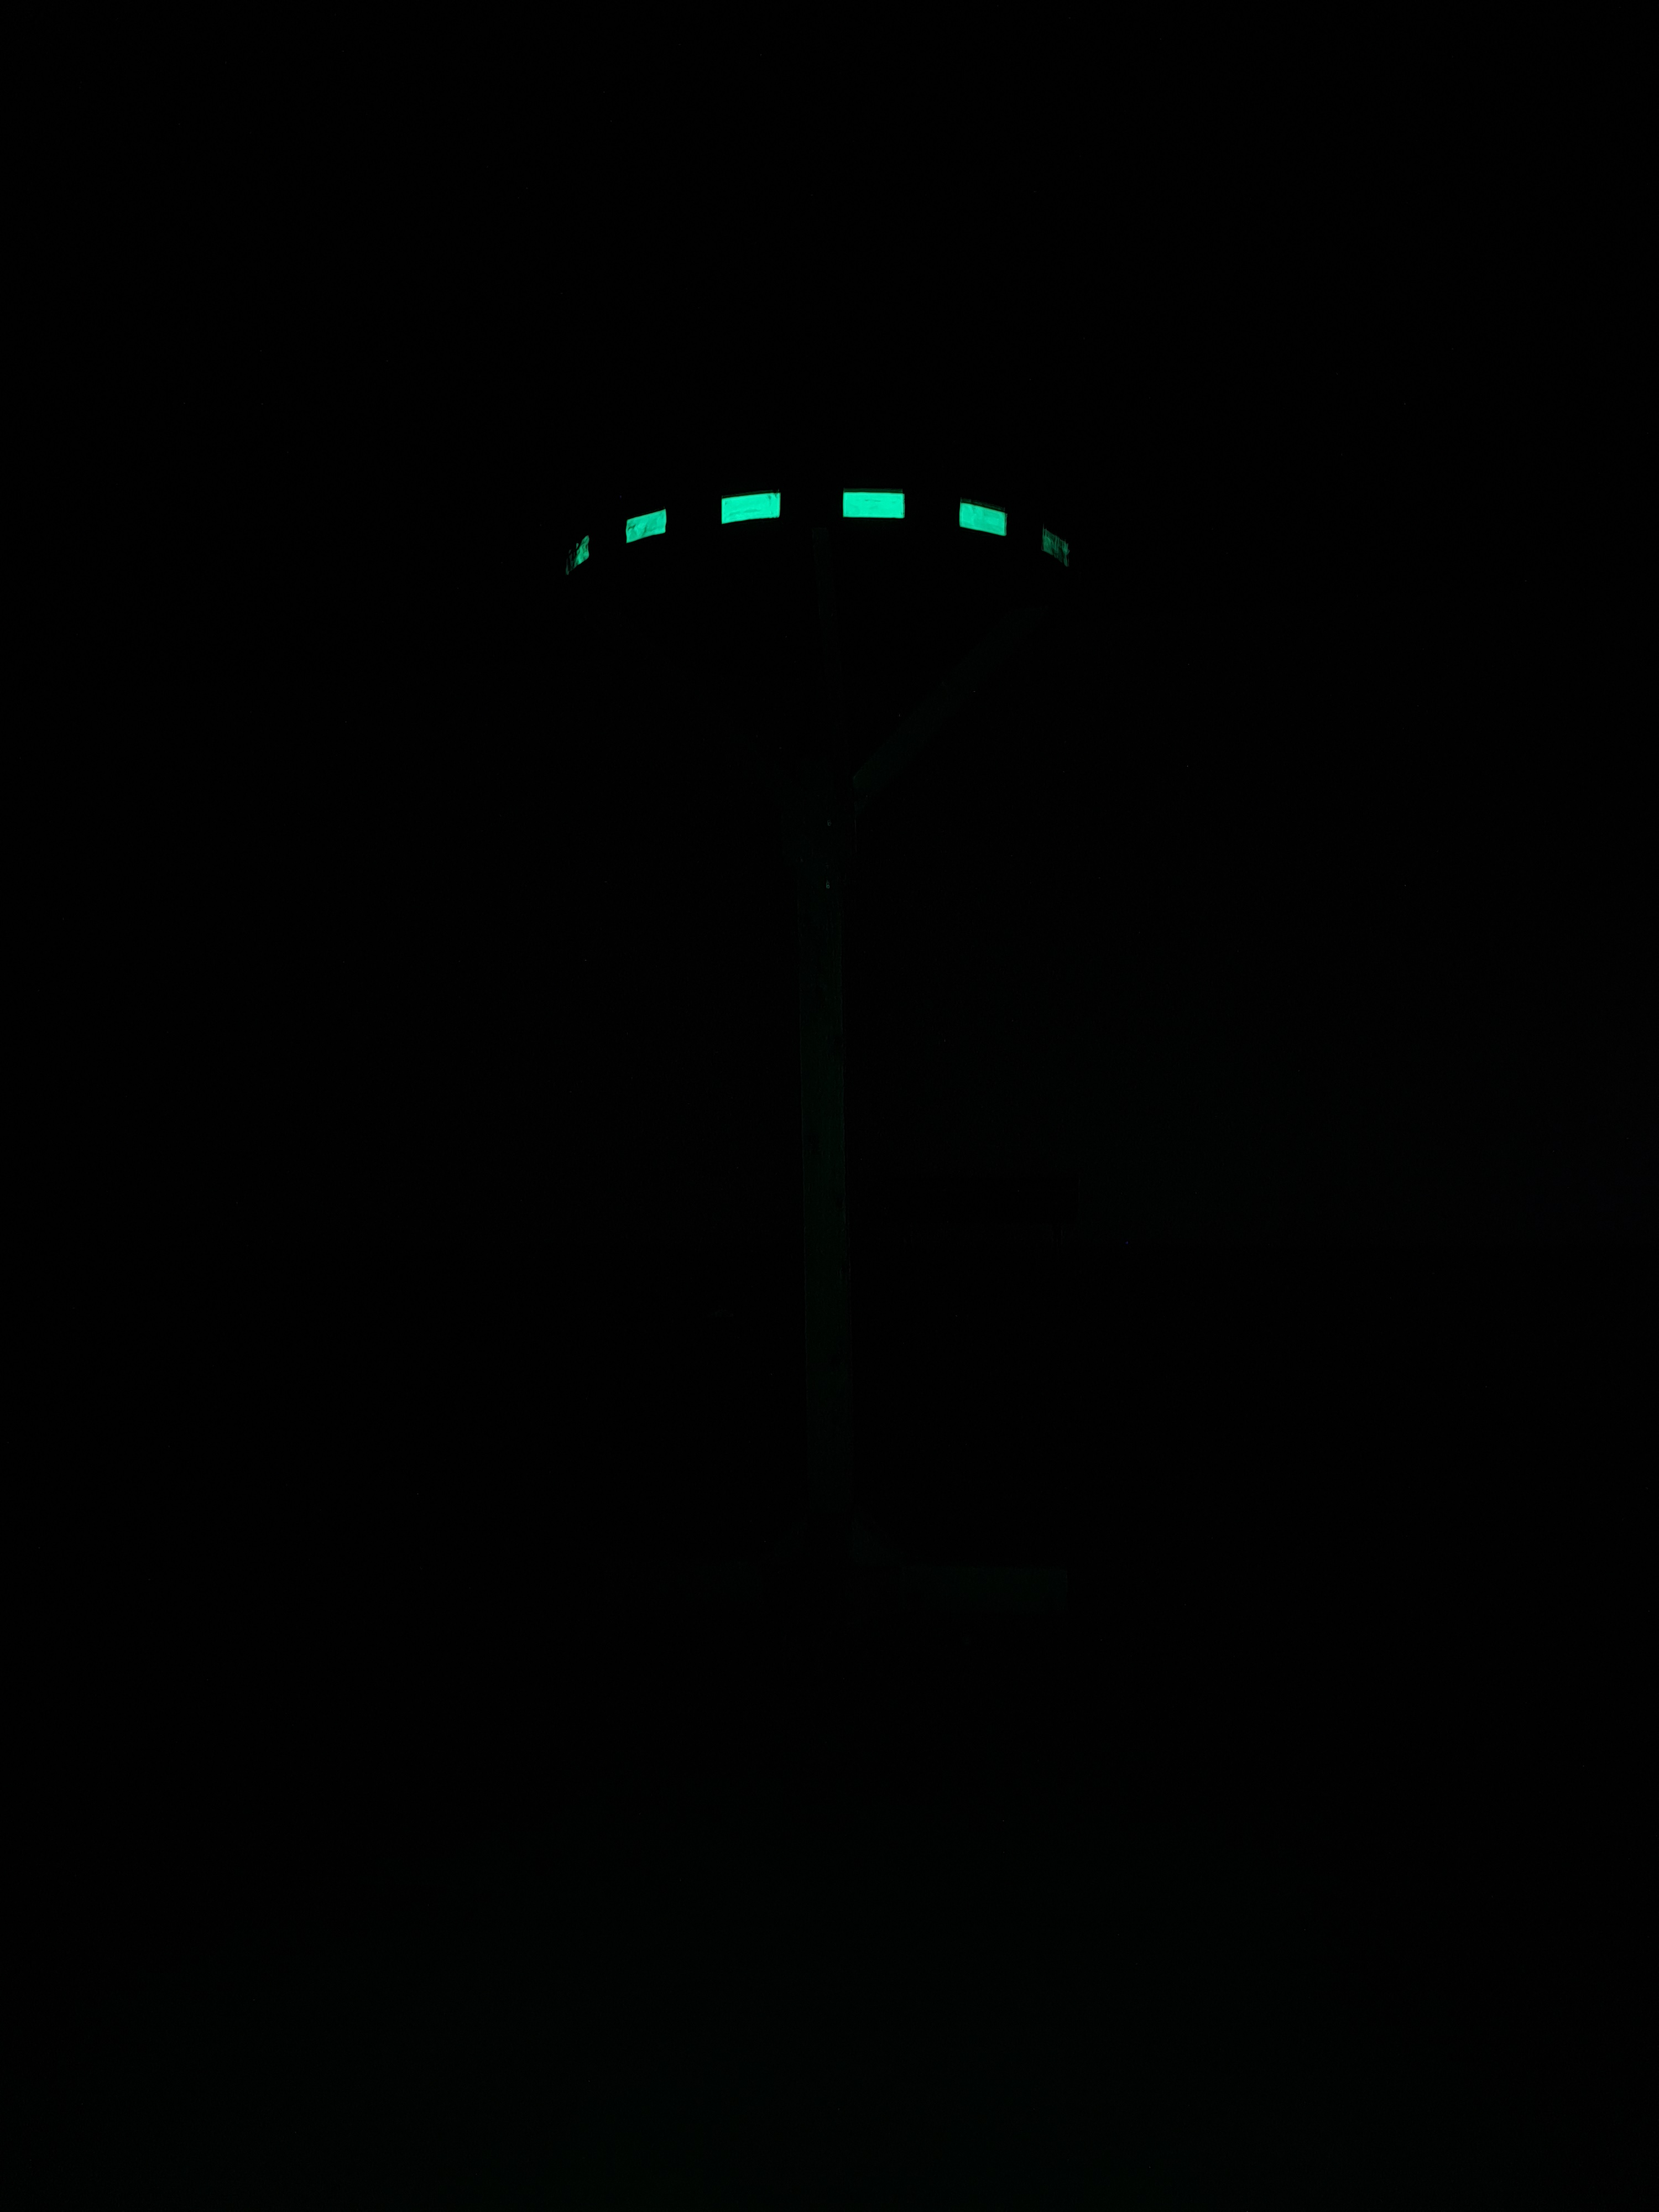hoop: (559, 495, 1084, 594)
